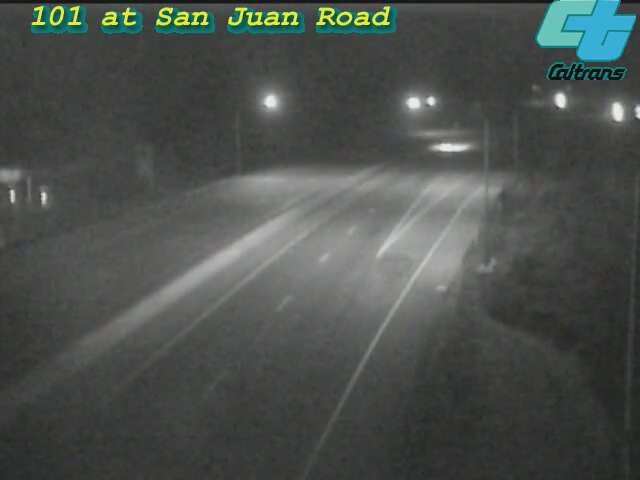vehicle: (423, 123, 473, 173), (592, 88, 640, 138), (611, 88, 640, 138)
